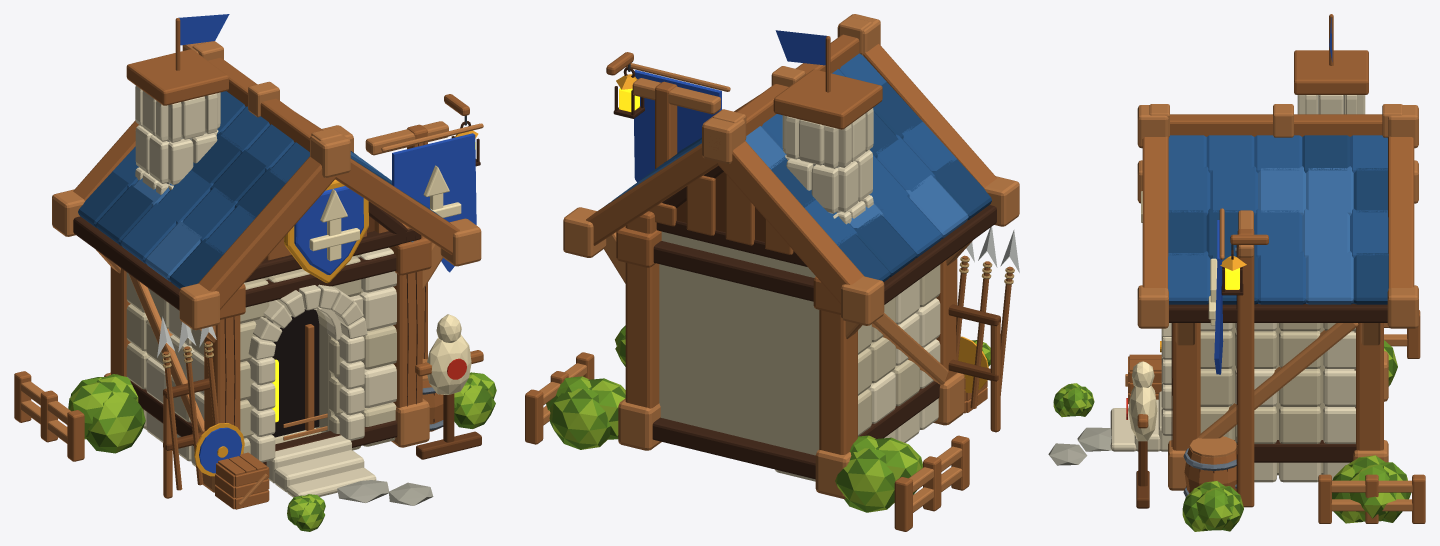
The model's file is barracks.glb.
3 renders of one model, left to right at view 1: azimuth 30°, elevation 25°; view 2: azimuth 150°, elevation 25°; view 3: azimuth 270°, elevation 25°, orthographic. The views are drawn at different scales.
Parts seen in each view (by area): view 1: Carved roof verge, Cloth heraldic banner, Open barracks doorway, Barracks tower cap, Carved roof verge.002, Corner upright.002, Corner upright, Barracks heraldic shield.001, Leaf cluster.004, Roof eave, Wall cross beam.002, Ridge timber (+80 smaller); view 2: Cottage walls, Carved roof verge.001, Corner upright.003, Corner upright.001, Barracks tower cap, Wall cross beam.001, Carved roof verge.003, Wall cross beam.003, Carved roof verge, Cloth heraldic banner, Leaf cluster.007, Leaf cluster.011 (+63 smaller); view 3: Banner post, Ridge timber, Carved roof verge.003, Carved roof verge.002, Roof eave.001, Barracks tower cap, Corner upright.002, Corner upright.003, Side wall diagonal.001, Soft edged blue roof tile.038, Soft edged blue roof tile.039, Soft edged blue roof tile.036 (+65 smaller).
Boxes of the visible parts, left/top/right/bottom form: Carved roof verge: left=198, top=156, right=336, bottom=309; Cloth heraldic banner: left=392, top=133, right=476, bottom=272; Open barracks doorway: left=272, top=309, right=319, bottom=437; Barracks tower cap: left=126, top=49, right=228, bottom=105; Carved roof verge.002: left=335, top=158, right=459, bottom=254; Corner upright.002: left=393, top=223, right=422, bottom=407; Corner upright: left=204, top=315, right=240, bottom=430; Barracks heraldic shield.001: left=294, top=186, right=363, bottom=274; Leaf cluster.004: left=86, top=392, right=145, bottom=453; Roof eave: left=73, top=216, right=179, bottom=310; Wall cross beam.002: left=245, top=254, right=396, bottom=307; Ridge timber: left=208, top=58, right=320, bottom=151; Cottage walls: left=659, top=231, right=819, bottom=455; Carved roof verge.001: left=717, top=141, right=864, bottom=304; Corner upright.003: left=625, top=211, right=659, bottom=408; Corner upright.001: left=819, top=310, right=857, bottom=454; Barracks tower cap: left=773, top=69, right=882, bottom=129; Wall cross beam.001: left=652, top=417, right=815, bottom=479; Carved roof verge.003: left=586, top=143, right=718, bottom=245; Wall cross beam.003: left=653, top=241, right=814, bottom=301; Carved roof verge: left=863, top=44, right=996, bottom=188; Cloth heraldic banner: left=634, top=70, right=721, bottom=182; Leaf cluster.007: left=835, top=448, right=895, bottom=512; Leaf cluster.011: left=549, top=388, right=610, bottom=449; Banner post: left=1237, top=229, right=1254, bottom=507; Ridge timber: left=1170, top=114, right=1382, bottom=136; Carved roof verge.003: left=1388, top=136, right=1414, bottom=288; Carved roof verge.002: left=1142, top=136, right=1168, bottom=288; Roof eave.001: left=1169, top=304, right=1387, bottom=322; Barracks tower cap: left=1294, top=50, right=1368, bottom=94; Corner upright.002: left=1172, top=323, right=1200, bottom=450; Corner upright.003: left=1356, top=323, right=1383, bottom=450; Side wall diagonal.001: left=1196, top=323, right=1358, bottom=438; Soft edged blue roof tile.038: left=1258, top=251, right=1305, bottom=304; Soft edged blue roof tile.039: left=1306, top=251, right=1353, bottom=304; Soft edged blue roof tile.036: left=1168, top=251, right=1210, bottom=304.
Size of the model in its own units: 4.09 by 4.36 by 3.62.
